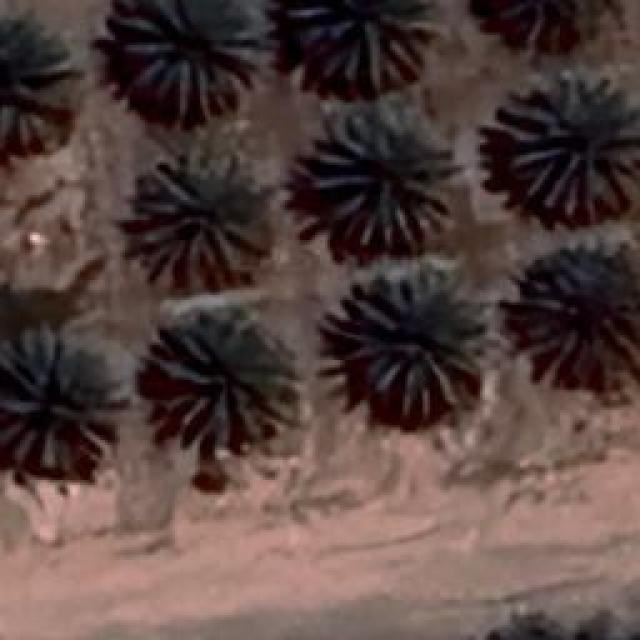PalmTree: (300, 102, 465, 248), (490, 70, 635, 222), (345, 268, 485, 420), (142, 315, 296, 450), (120, 152, 262, 292), (112, 0, 268, 120), (0, 335, 120, 470), (520, 252, 638, 370), (290, 0, 427, 92), (0, 15, 70, 150), (470, 0, 617, 60)
